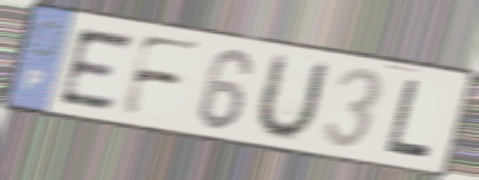3: (323, 66, 388, 153)
6: (195, 46, 255, 133)
E: (56, 25, 138, 112)
F: (116, 31, 206, 120)
L: (383, 76, 436, 161)
U: (249, 50, 333, 144)
